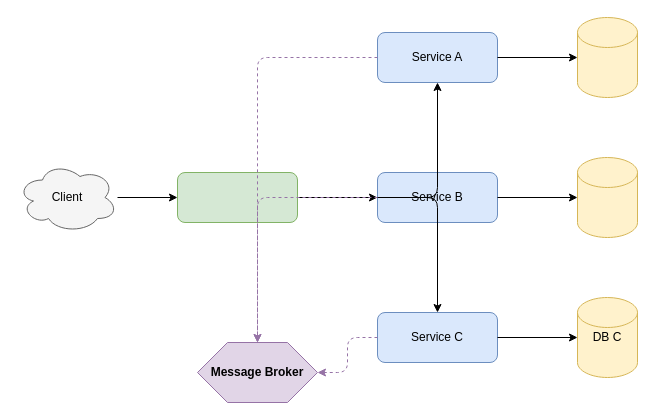
This 655x420 diagram has some shape labels left out. The shapes that lost their labels are listed below. From the top down, each one's box as (x1, y1, x2, y2) in pixels, then its label:
(576, 16, 638, 98): DB A
(176, 172, 298, 222): API Gateway
(576, 156, 638, 238): DB B
